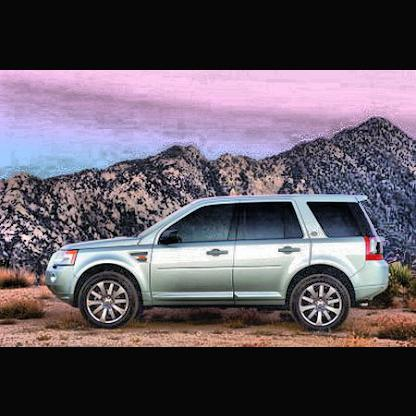Land Rover LR2 SUV 2012: (49, 195, 391, 332)
